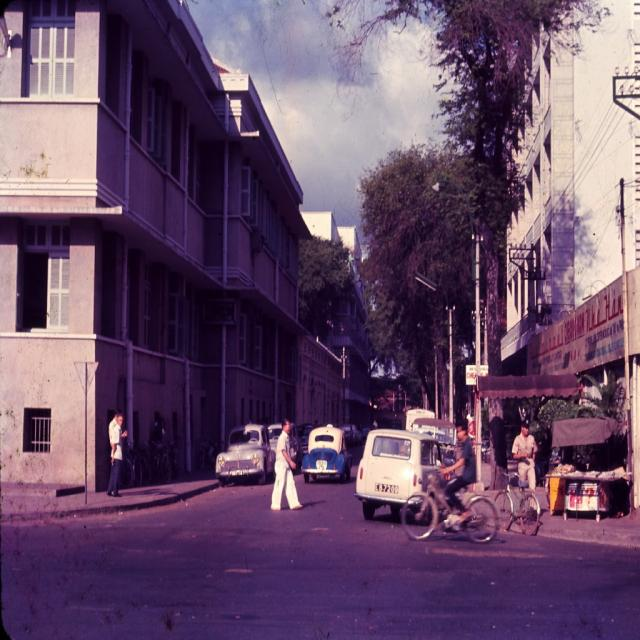car: (354, 416, 484, 534), (212, 421, 267, 482), (296, 422, 345, 480)
